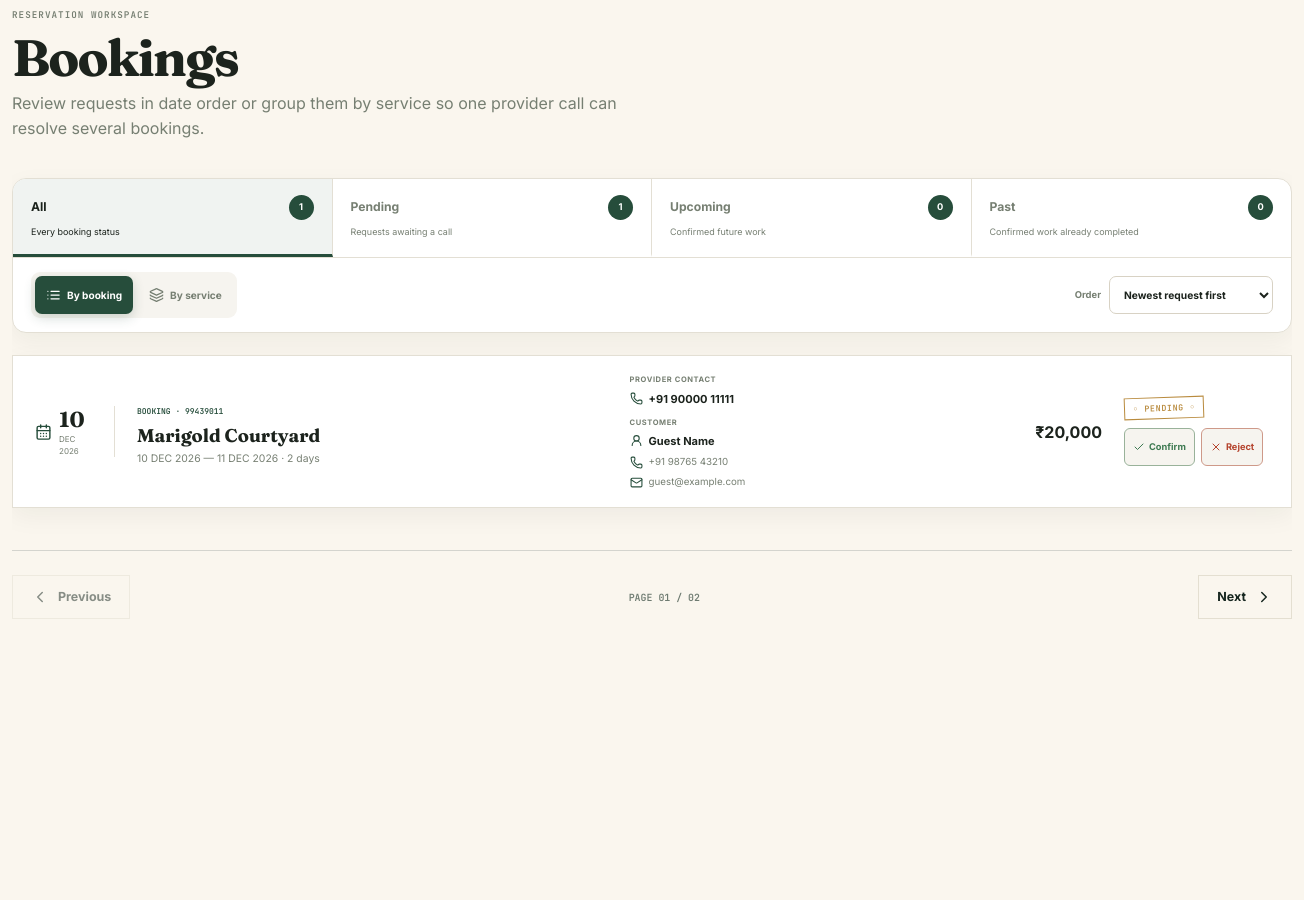
AdminBookingsPage › groups requests by service and expands the selected service
This screenshot has width=1304, height=900.
Click the button "By service". click: x=186, y=295
box: left=138, top=276, right=233, bottom=314
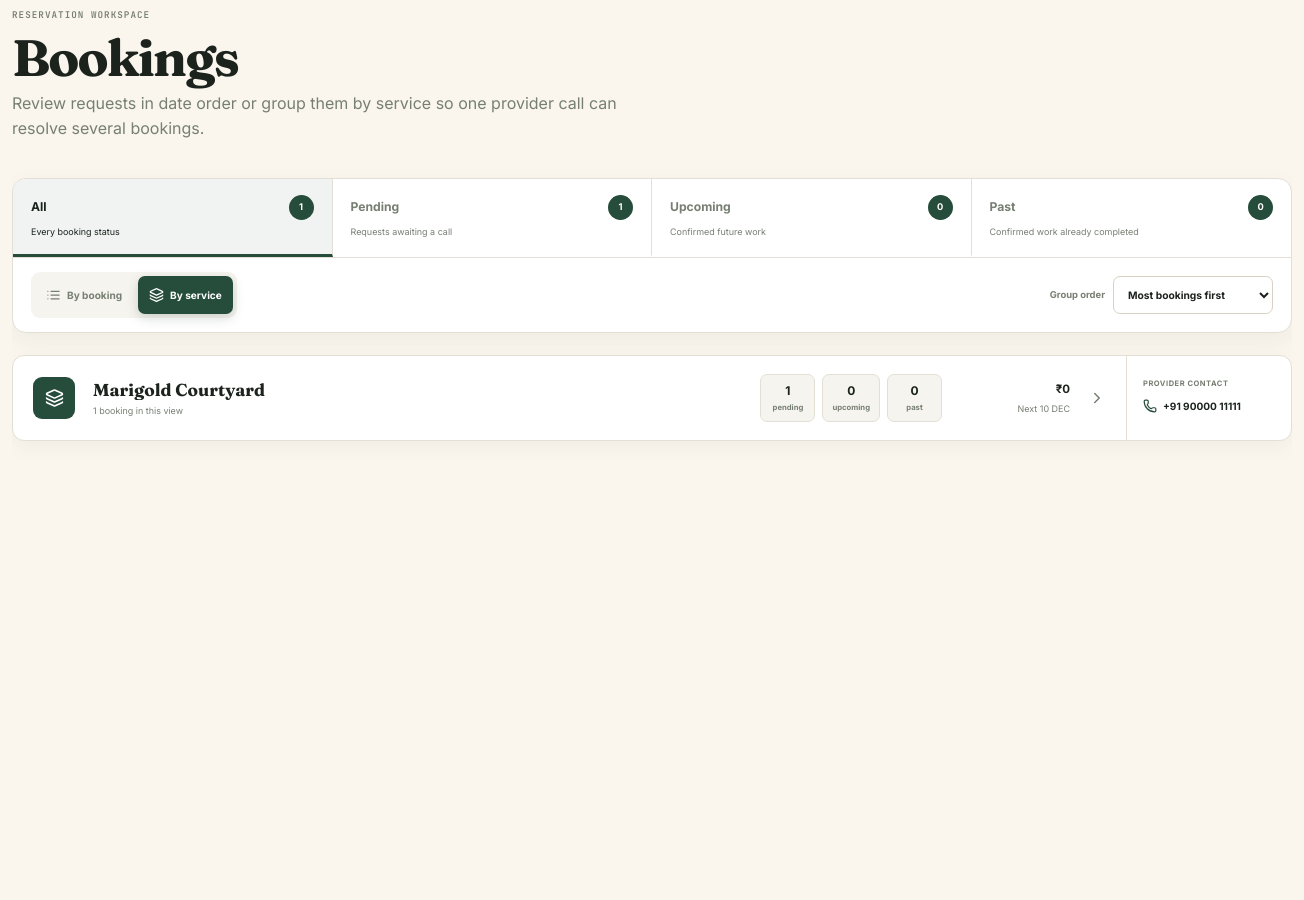
Click the button that starts with "Marigold Courtyard". click: x=54, y=398
box: left=13, top=356, right=1126, bottom=440
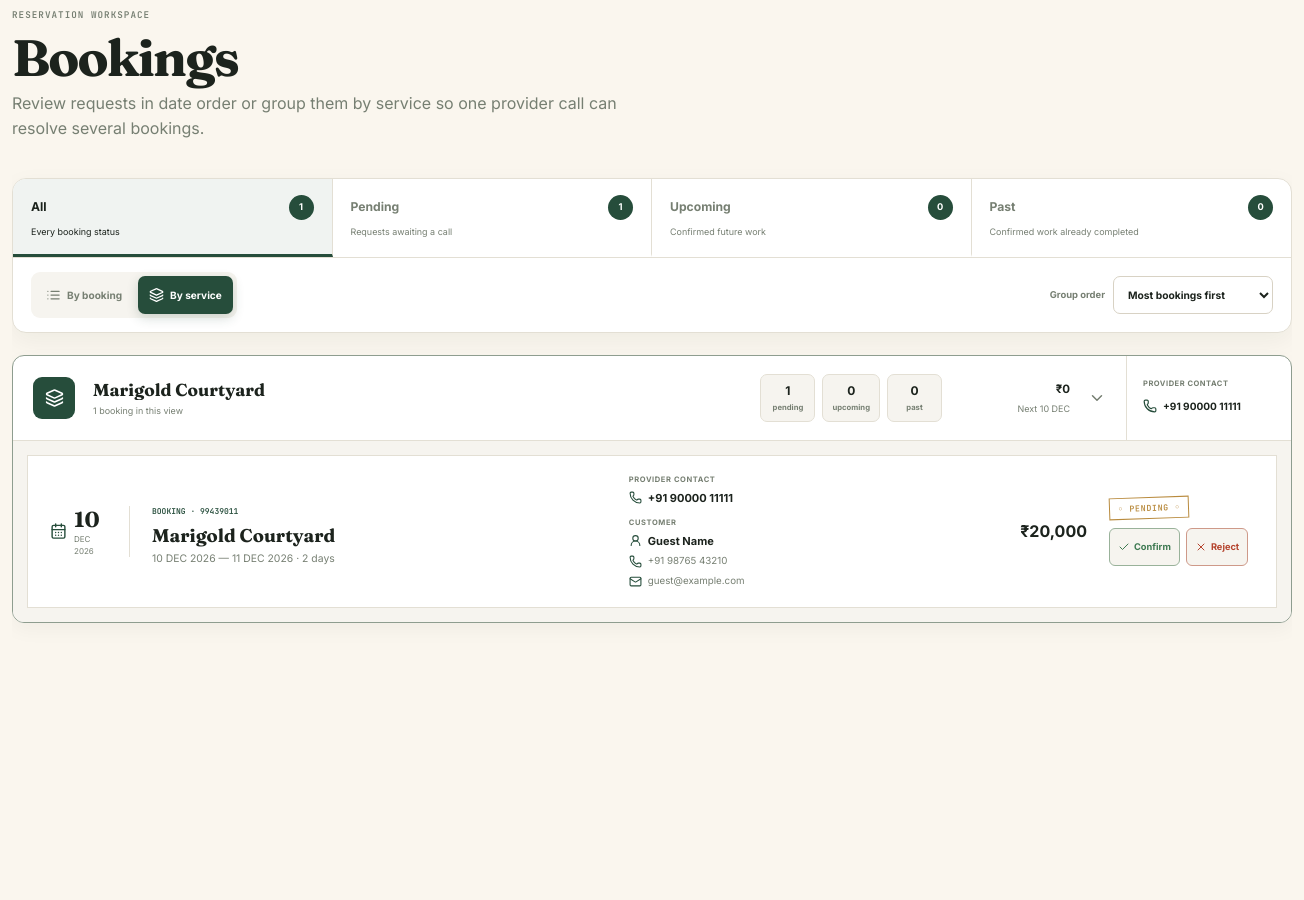
Now the button that starts with "Marigold Courtyard" is expanded, box left=13, top=356, right=1126, bottom=440
Now the button "Confirm" is shown, box left=1109, top=528, right=1180, bottom=566
